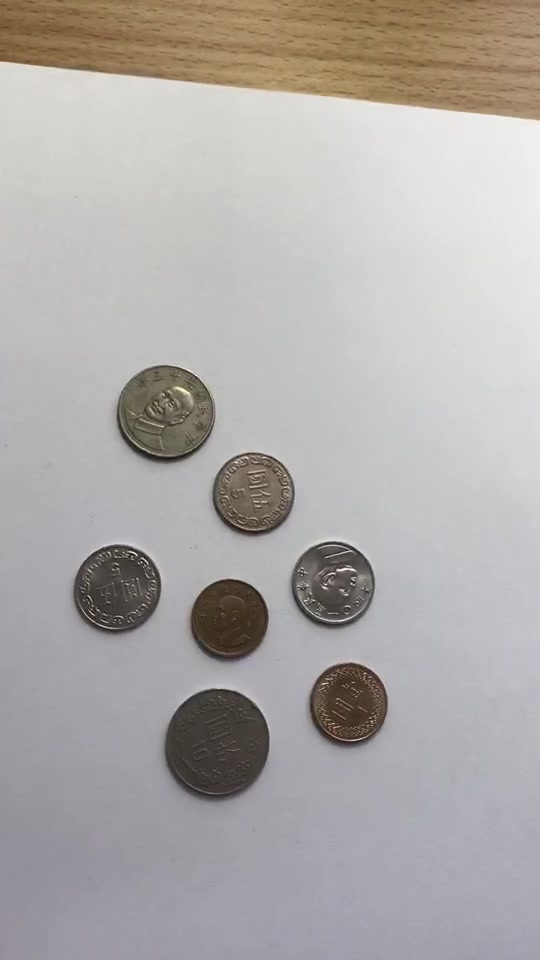1 dallar: (178, 569, 274, 664), (302, 654, 398, 749)
10 dallar: (158, 683, 278, 807), (112, 356, 216, 468)
5 dallar: (64, 540, 168, 640), (205, 444, 309, 544), (281, 536, 385, 636)
